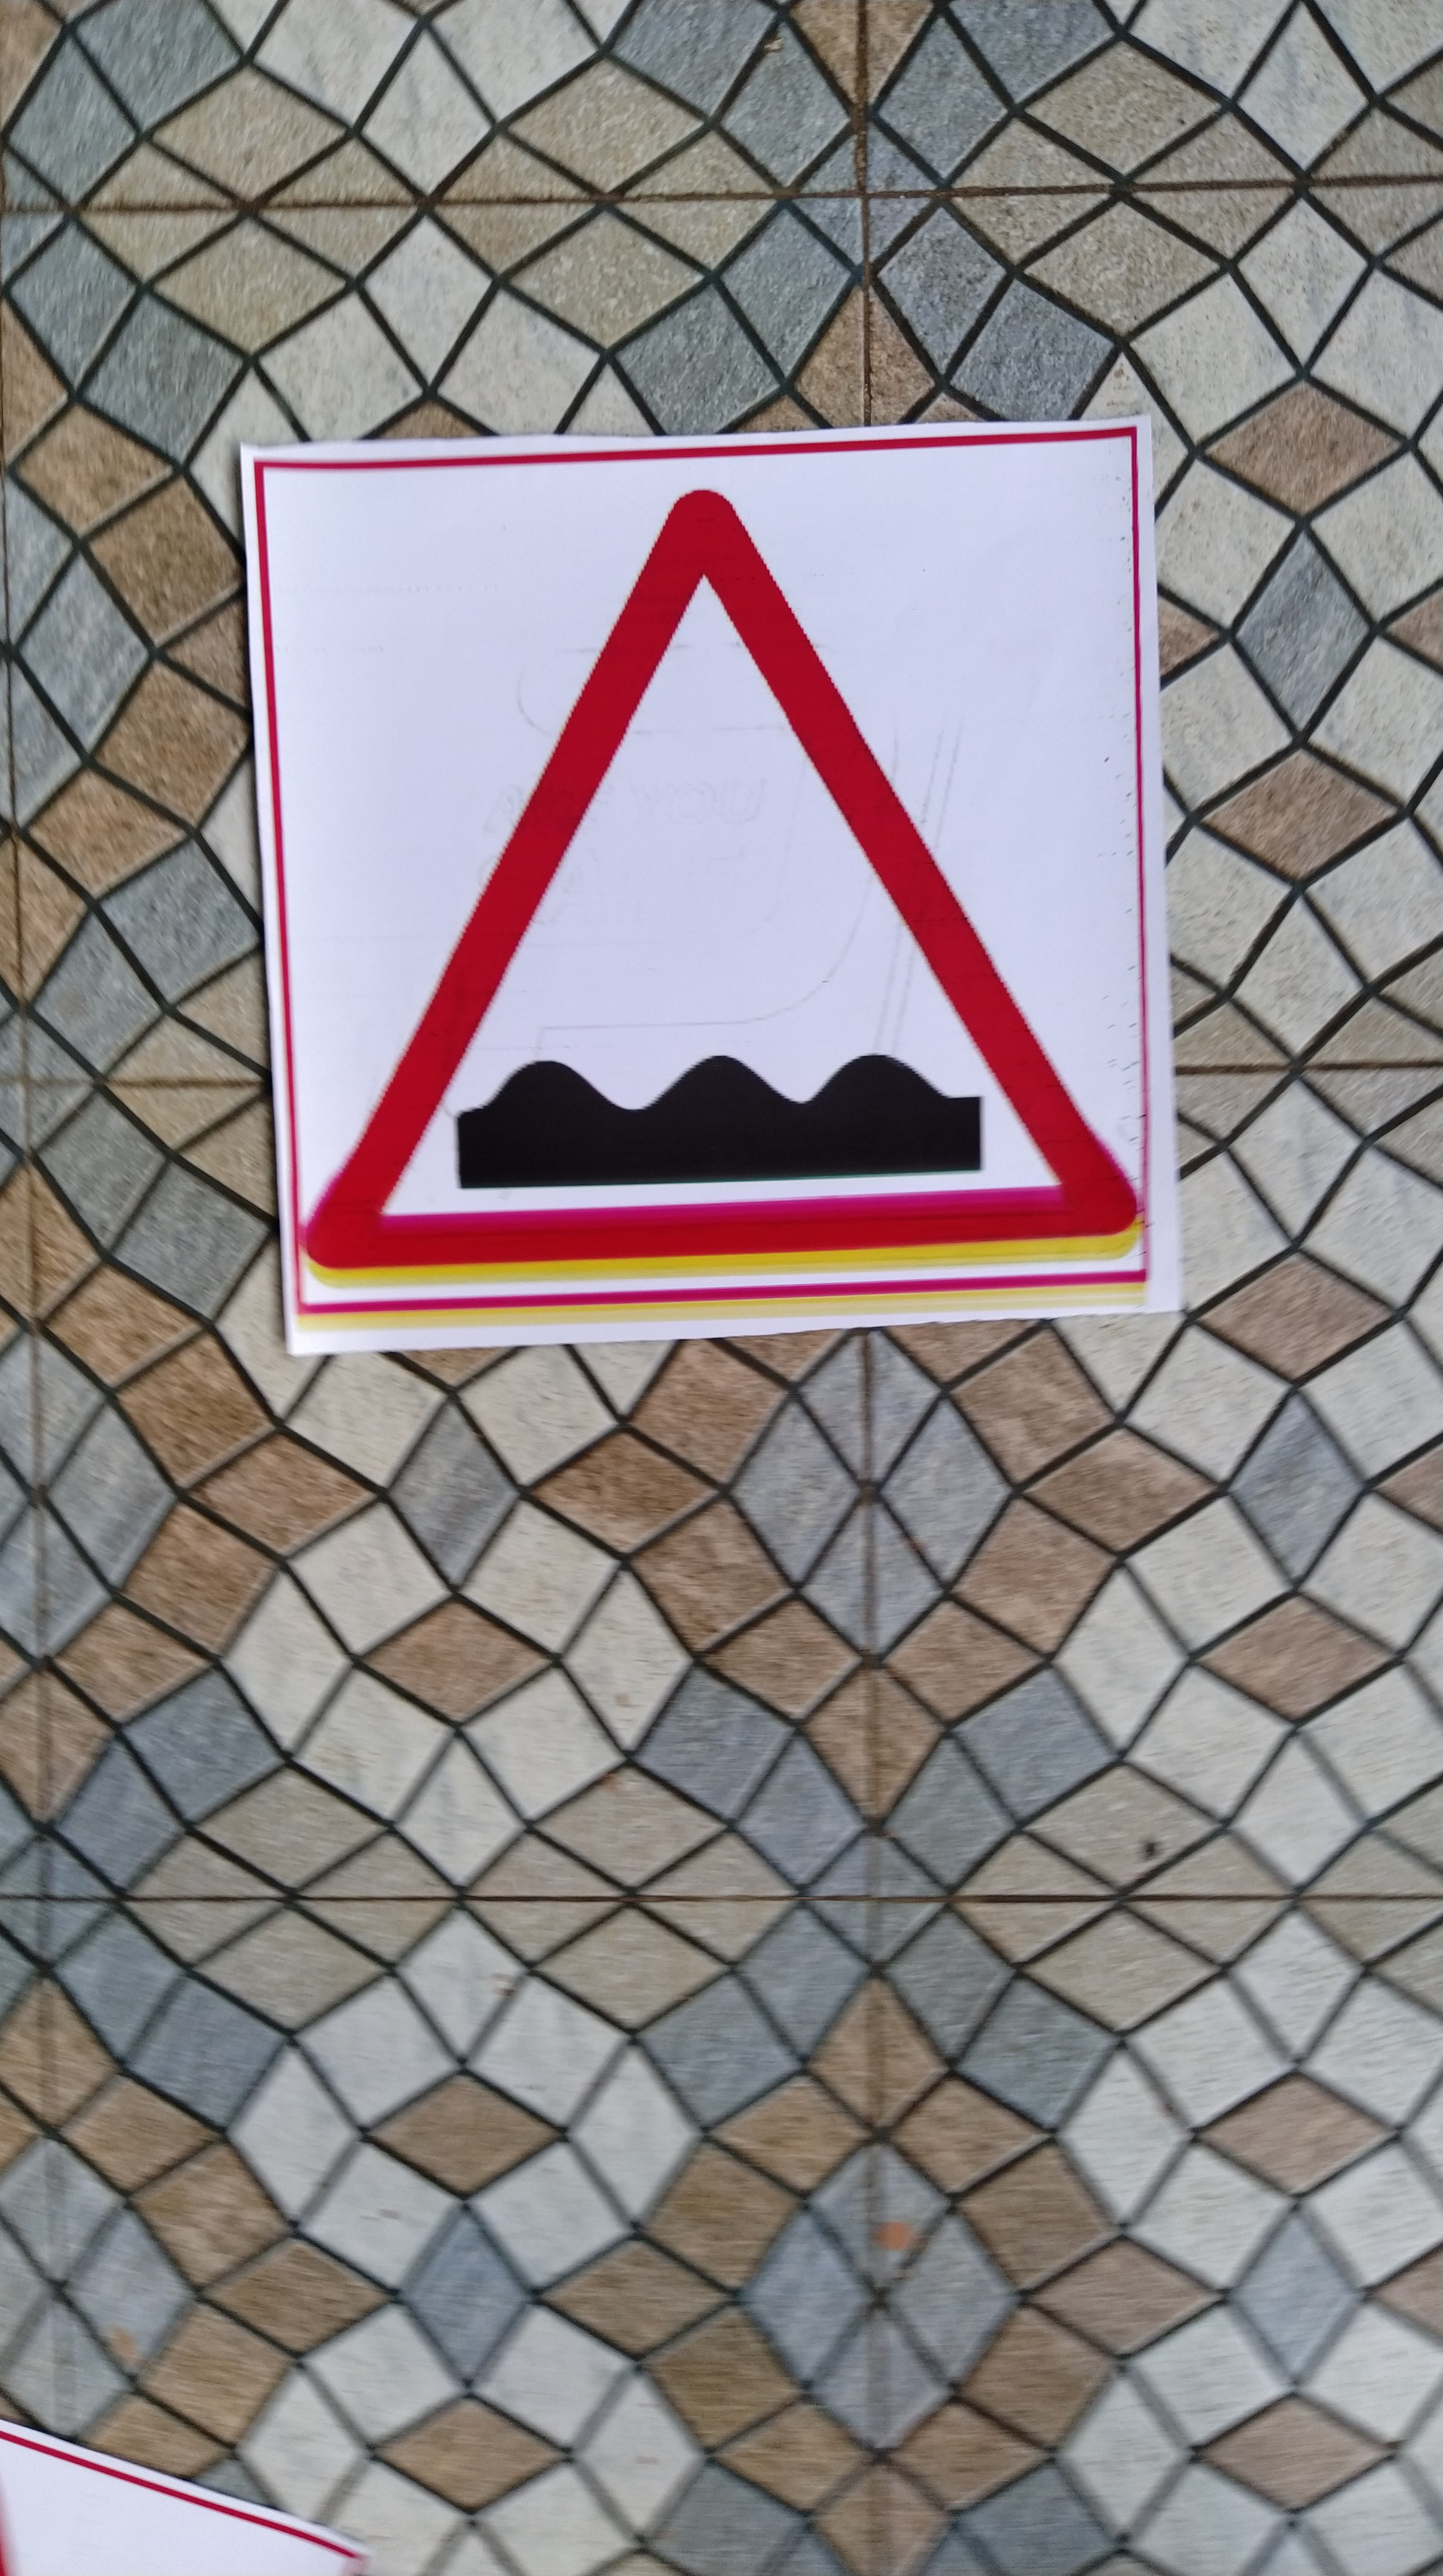speed breaker: (251, 441, 1161, 1318)
